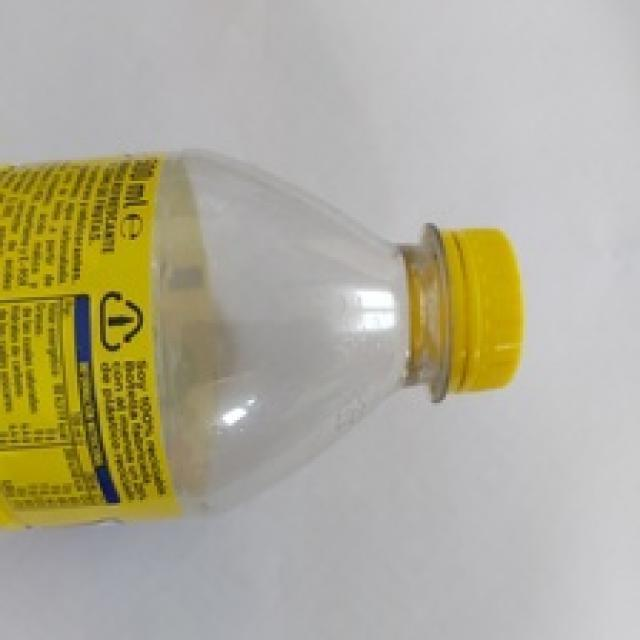Plastic: (0, 149, 521, 536)
